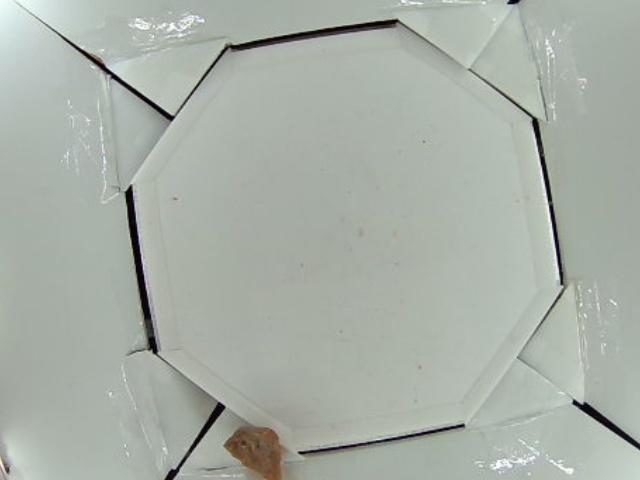Brisk: (222, 425, 283, 480)
